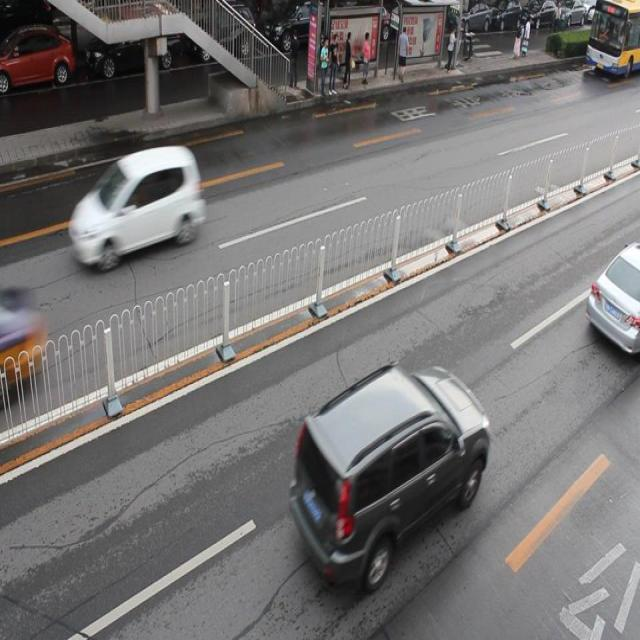car: (292, 361, 489, 588), (69, 144, 202, 268), (584, 239, 640, 354), (83, 23, 180, 80), (1, 28, 76, 94), (186, 1, 255, 62), (261, 1, 330, 57)
van: (586, 1, 640, 75)
